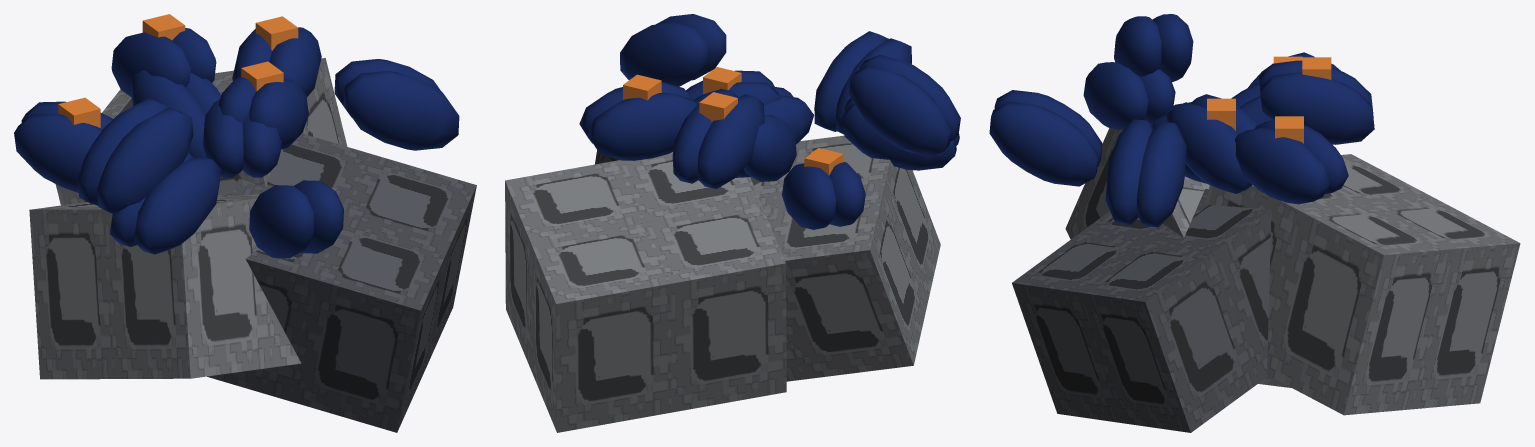
File: MusselBed.glb
The picture shows the model from 3 angles, left to right: view 1: azimuth 30°, elevation 25°; view 2: azimuth 150°, elevation 25°; view 3: azimuth 270°, elevation 25°; orthographic projection. The views are drawn at different scales.
Parts seen in each view (by area): view 1: MusselBed; view 2: MusselBed; view 3: MusselBed.
Boxes of the visible parts, bbox=[...] form: MusselBed: bbox=[14, 14, 476, 432]; MusselBed: bbox=[505, 14, 960, 432]; MusselBed: bbox=[989, 14, 1520, 432].
Bounding box in the file's own units: 3.62 × 2.97 × 4.58.
Materials: 1 (1 with a texture image).
